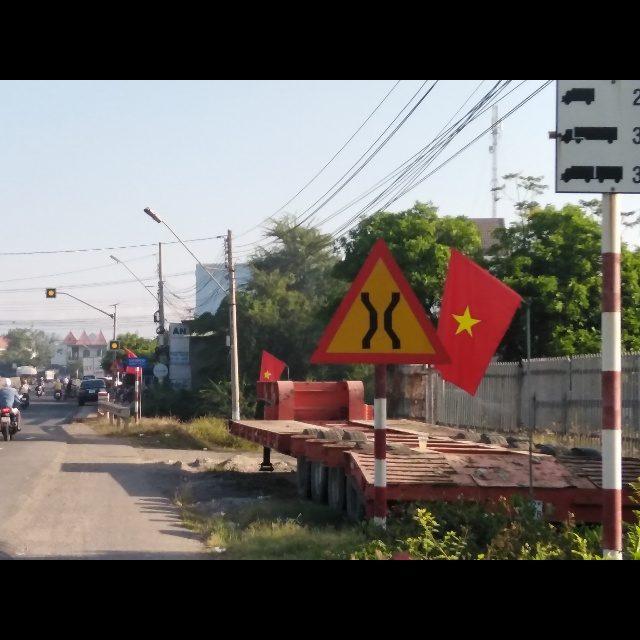Cầu hẹp: (305, 231, 453, 367)
